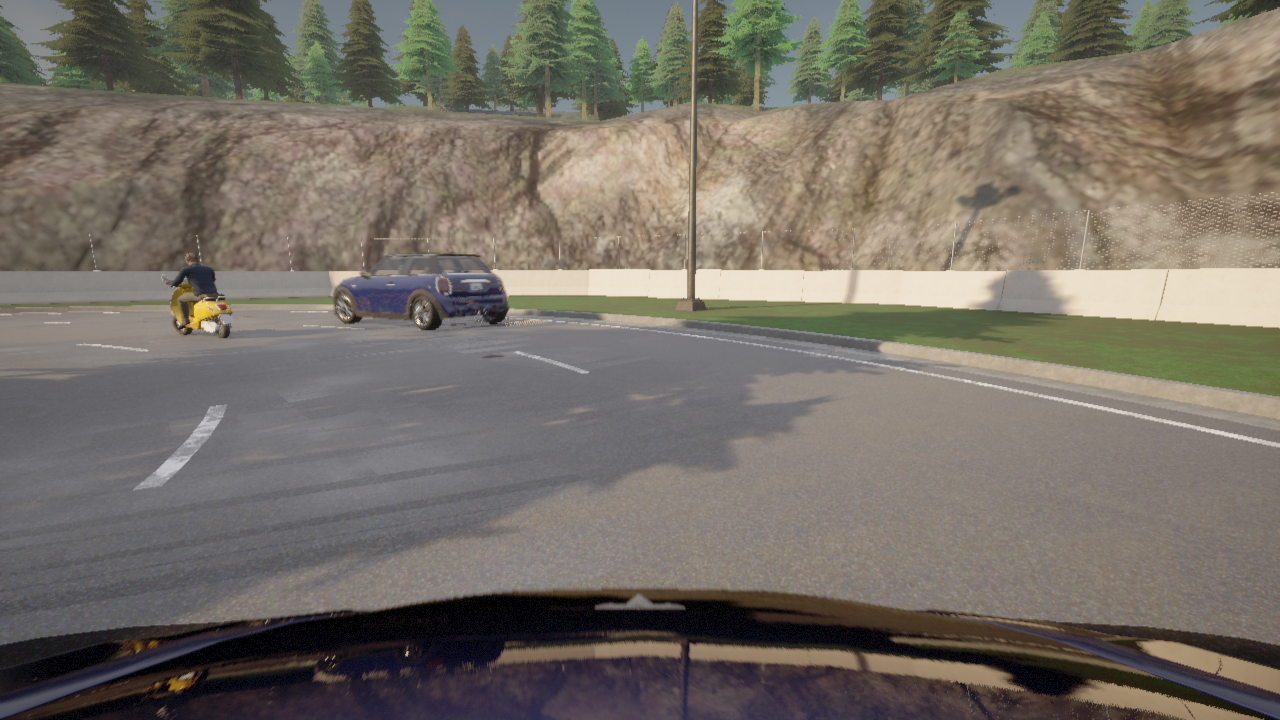cyclist: (0, 588, 1279, 719), (333, 247, 508, 330), (161, 275, 233, 338)
